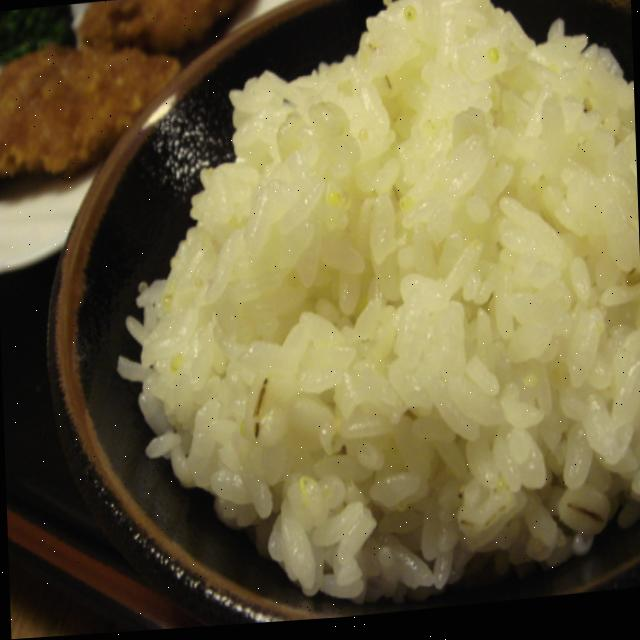米饭主食: (31, 0, 640, 638)
